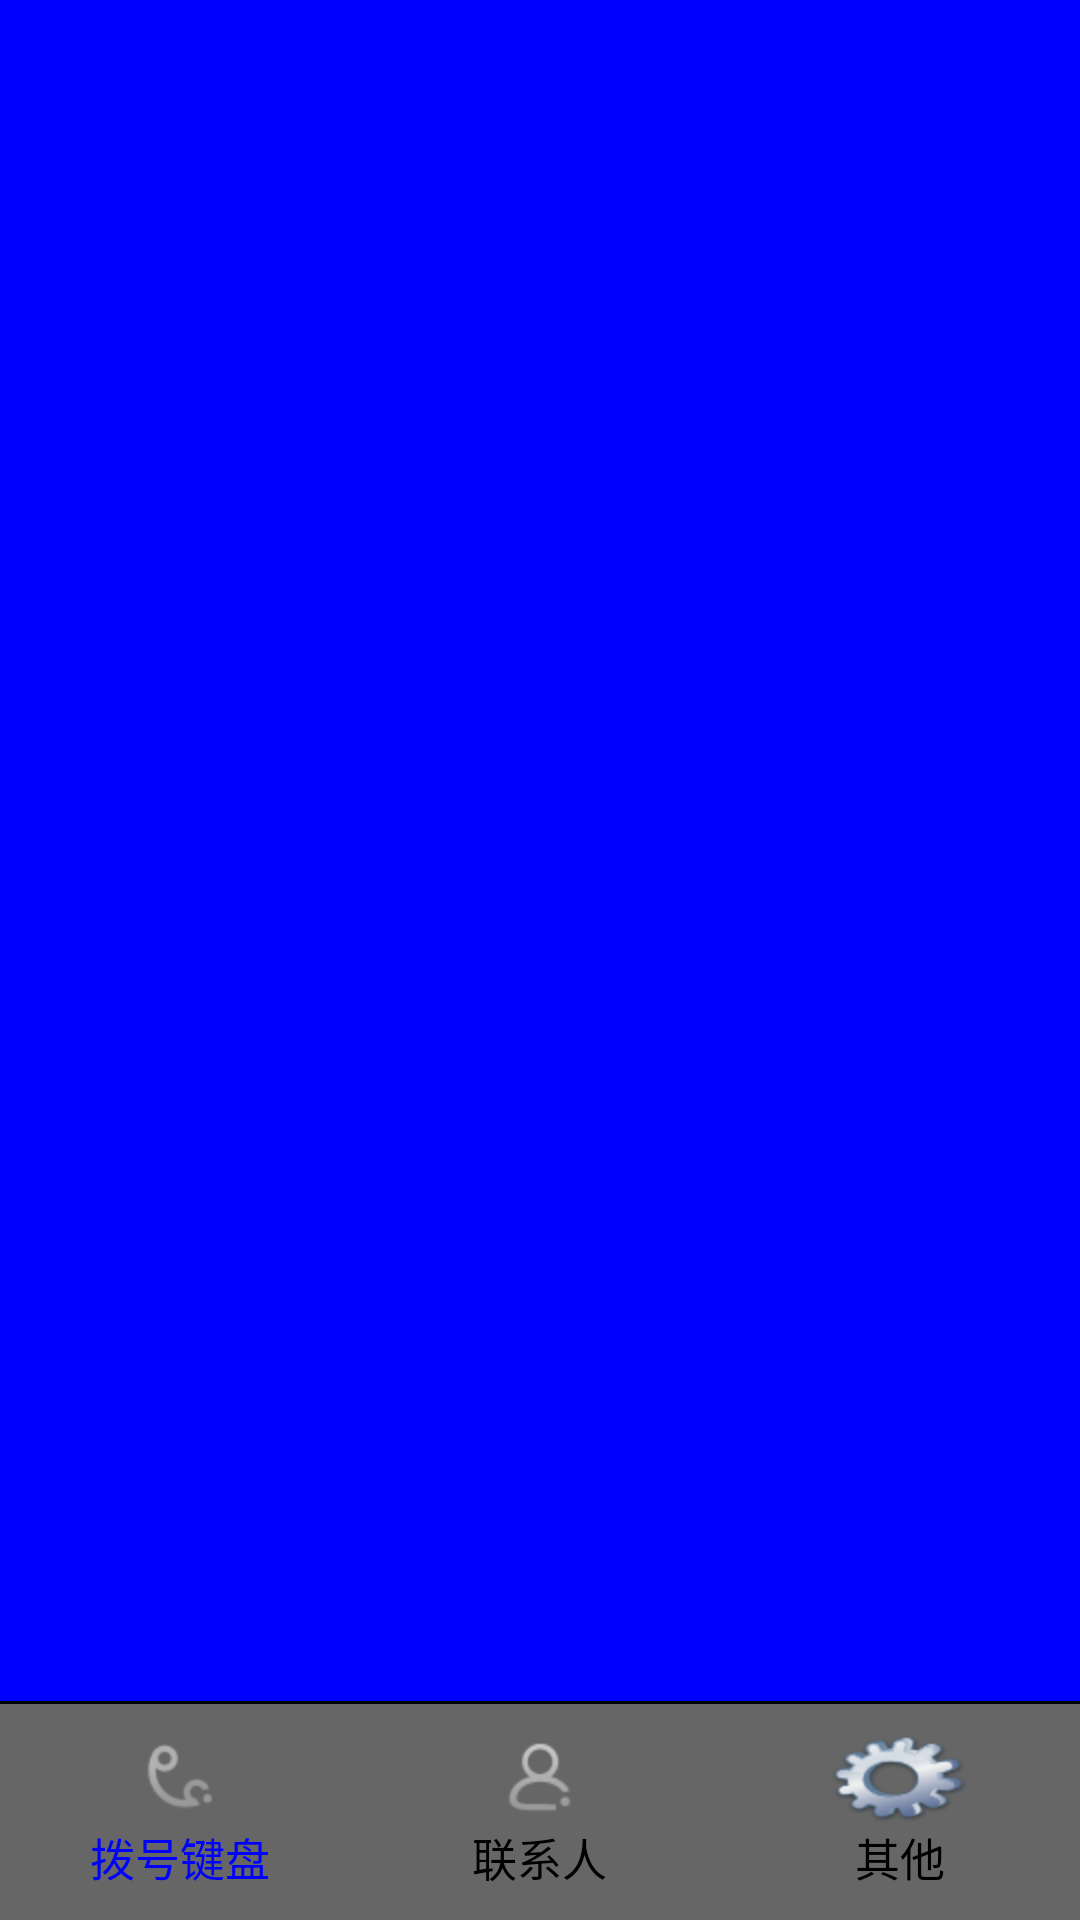

Locate icon controls on the screen. Image size 1080px×1920px, boxes as BBox(x1, y1, x2, y2).
setting: BBox(836, 1737, 961, 1818)
